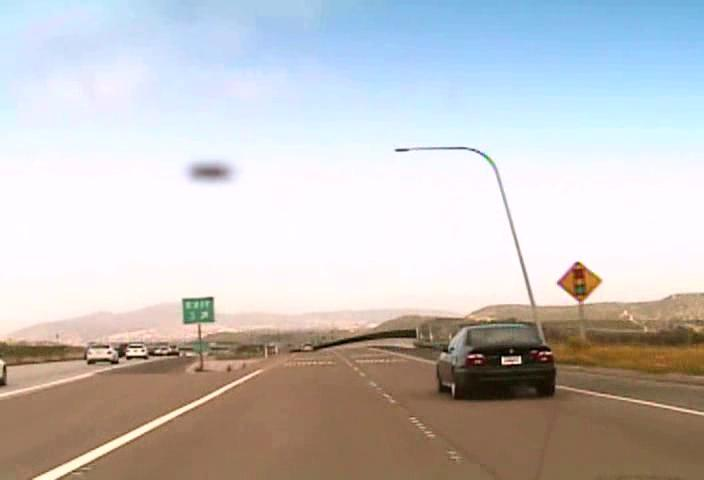signalAhead: (555, 260, 602, 301)
